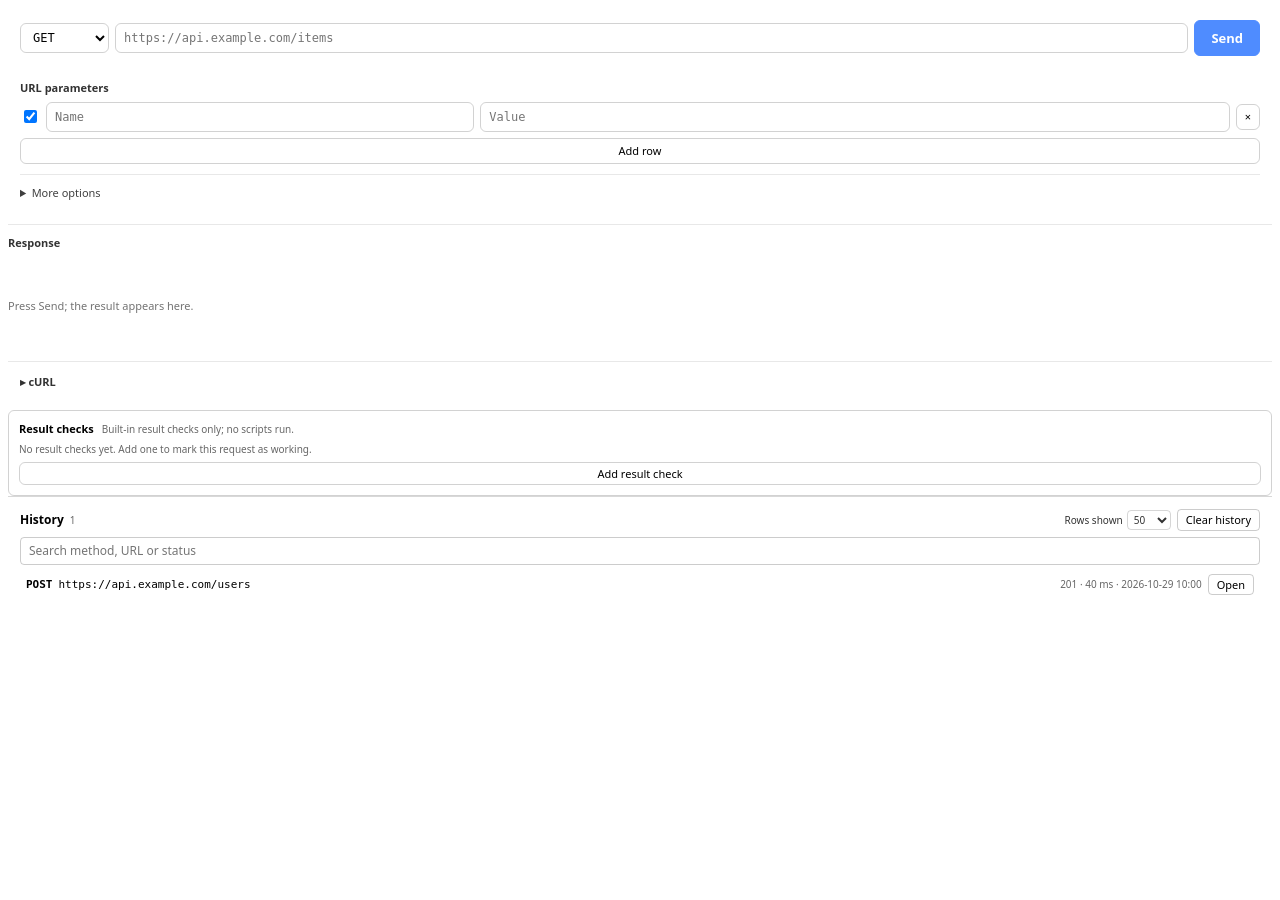
Test: HistoryList open › refills the builder from a row without resending
Step 1. Click the button "Open" → (1231, 584), box [1208,574,1254,595]
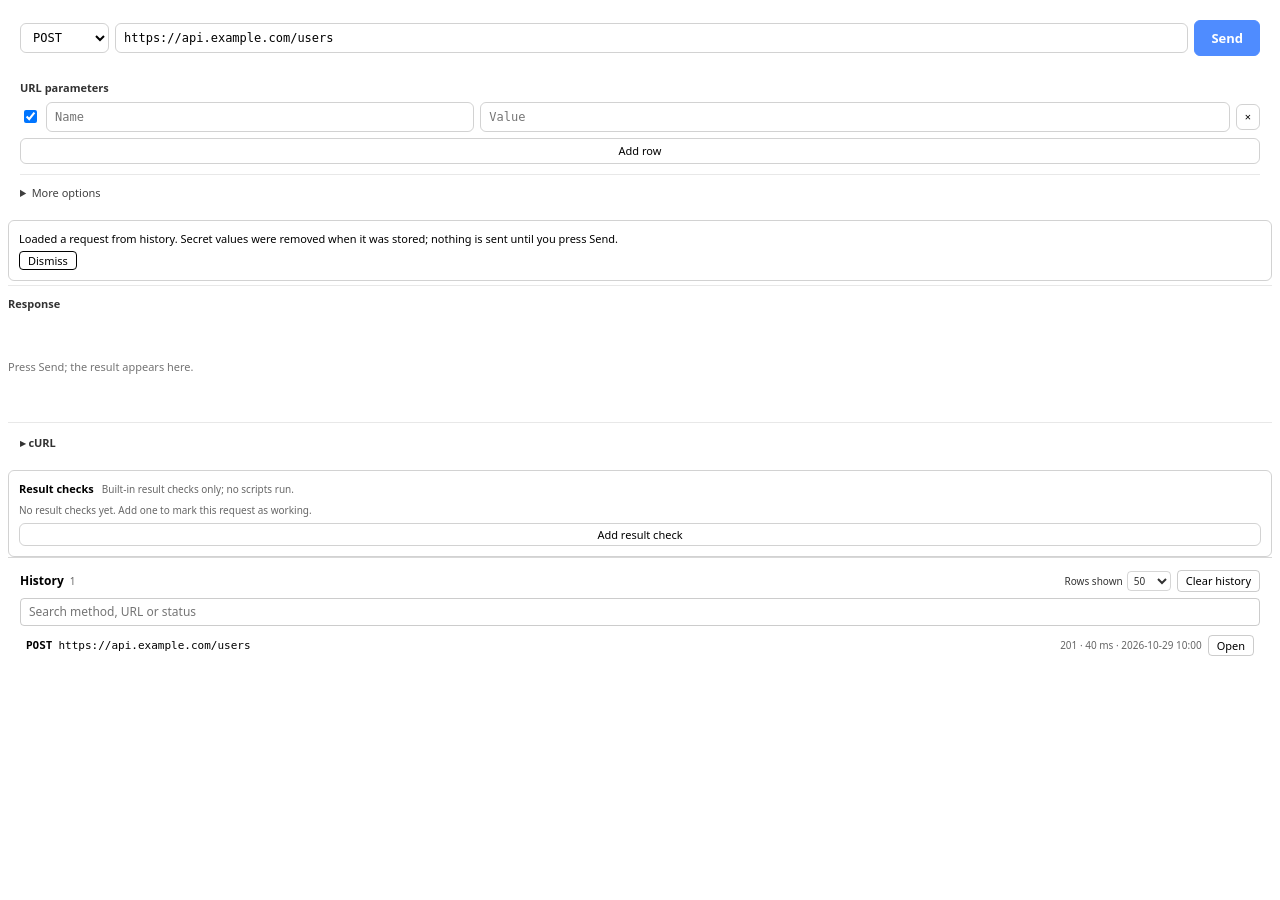
Now the field named "URL" holds "https://api.example.com/users", box [115,23,1188,54]
Now the dropdown named "Method" shows "POST", box [20,23,109,53]
Now the text "Loaded a request from history" is shown, box [19,231,618,246]
